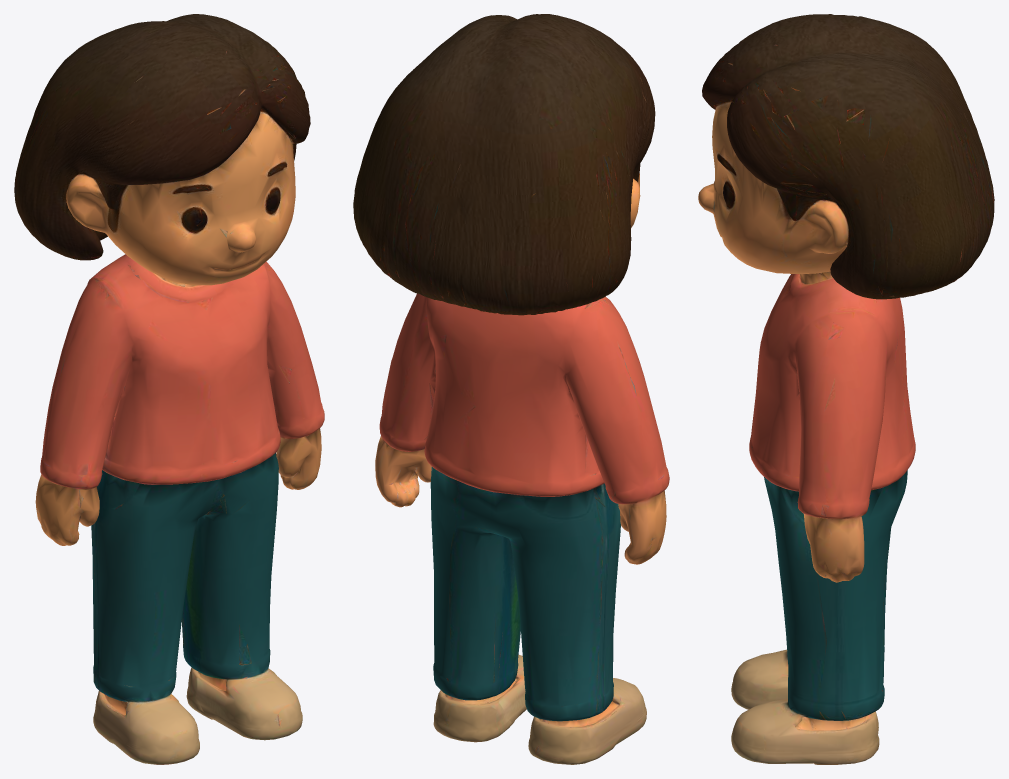
Rendered from human-female.glb.
The picture shows the model from 3 angles, left to right: view 1: azimuth 30°, elevation 25°; view 2: azimuth 150°, elevation 25°; view 3: azimuth 270°, elevation 25°; orthographic projection.
Visible parts, largest first — view 1: Mesh_0; view 2: Mesh_0; view 3: Mesh_0.
Boxes of the visible parts, left/top/right/bottom form: Mesh_0: left=14, top=14, right=324, bottom=764; Mesh_0: left=353, top=14, right=669, bottom=764; Mesh_0: left=698, top=14, right=994, bottom=764.
Bounding box in the file's own units: 0.7871 × 1.9 × 0.7279.
1 material, 1 textured.
